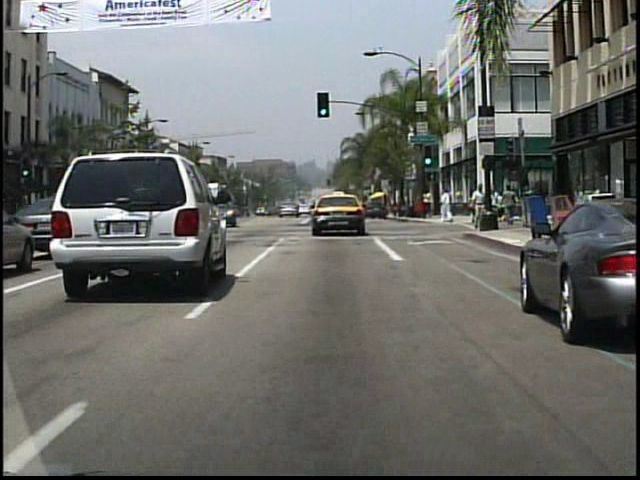person: (479, 186, 497, 230), (471, 182, 485, 231), (502, 186, 518, 228), (487, 185, 501, 228), (495, 189, 507, 224), (440, 188, 452, 222), (422, 188, 433, 219)
